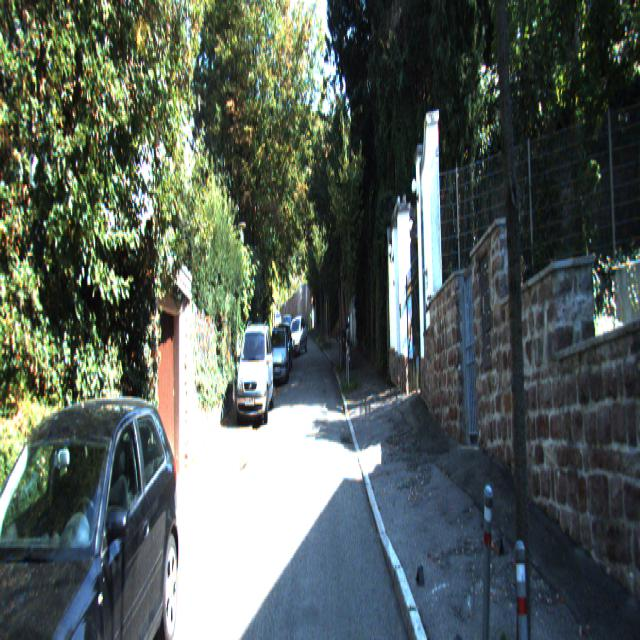Car: (0, 371, 182, 638), (236, 319, 274, 430), (268, 324, 290, 386), (286, 314, 308, 358)
